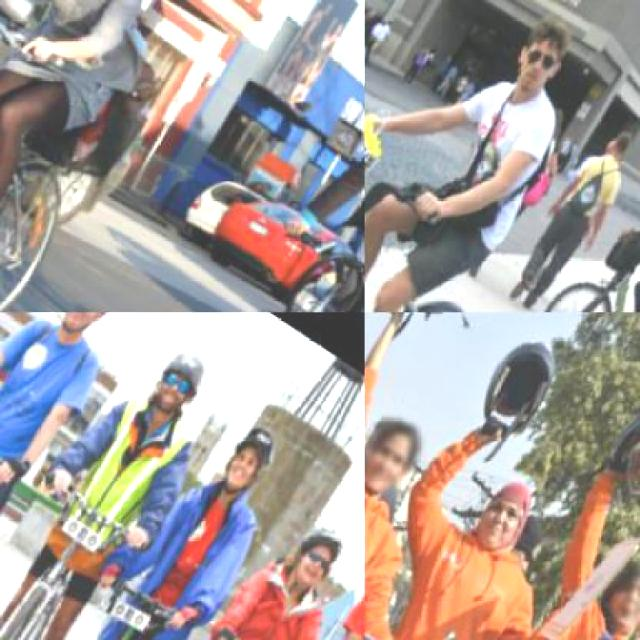With Helmet: (275, 502, 356, 598), (211, 410, 287, 501), (143, 328, 219, 418), (49, 312, 132, 343)
Without Helmet: (491, 0, 586, 105), (460, 458, 549, 565), (365, 395, 437, 500), (604, 543, 638, 625)
